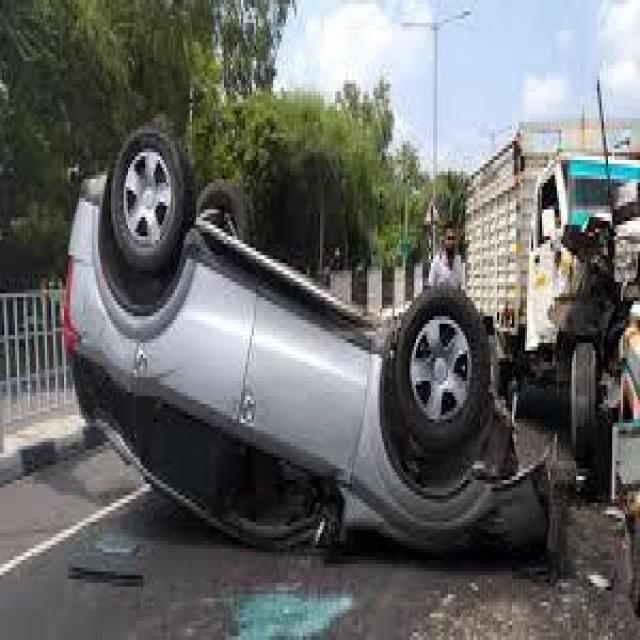accident: (58, 120, 556, 562)
